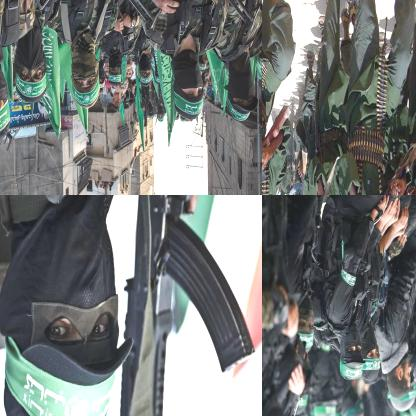rifle: (117, 195, 254, 415), (302, 140, 415, 194), (58, 0, 163, 31)
